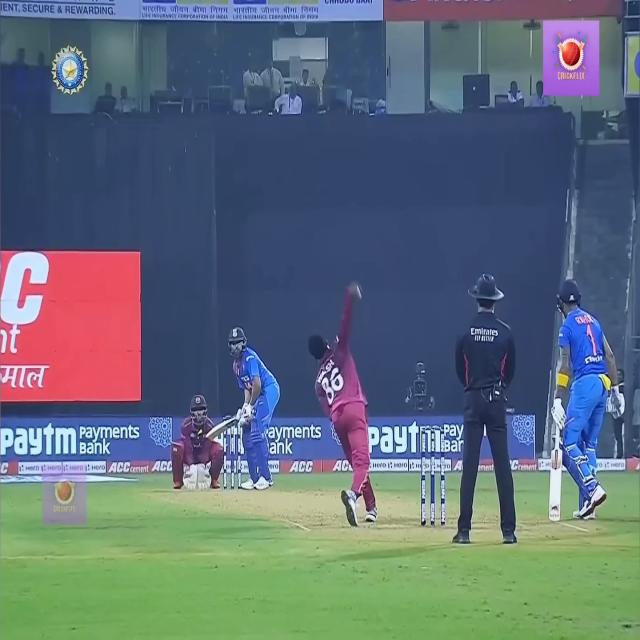fully_visible: (0, 416, 77, 462)
partially_visible: (364, 418, 444, 464)
